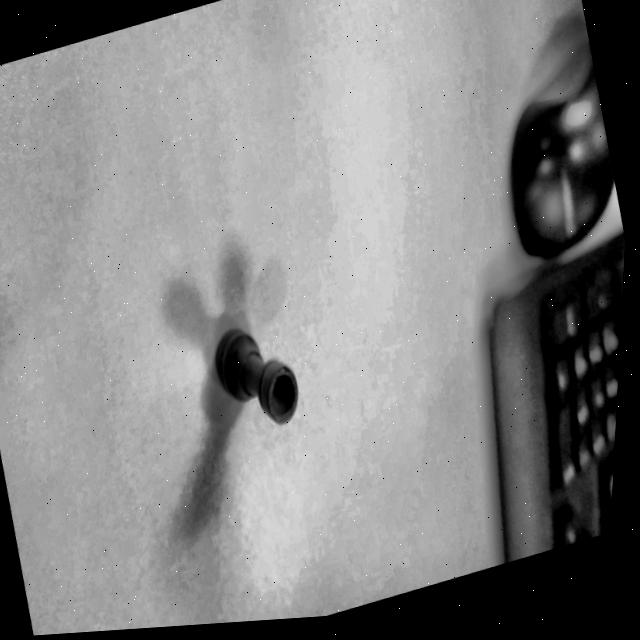black-rook: (183, 275, 325, 466)
